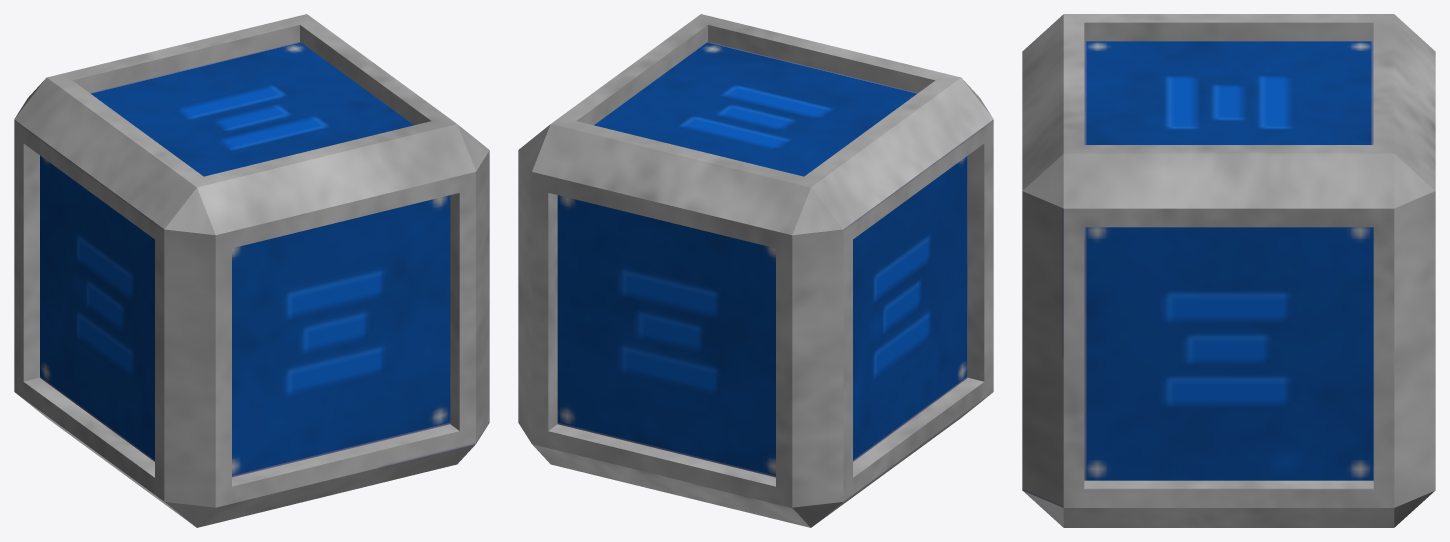
File: Crate.fbx
3 renders of one model, left to right at view 1: azimuth 30°, elevation 25°; view 2: azimuth 150°, elevation 25°; view 3: azimuth 270°, elevation 25°, orthographic. The views are drawn at different scales.
Visible parts, largest first — view 1: Cube; view 2: Cube; view 3: Cube.
Part boxes in pixels (box(x1,y1,x2,y2)): Cube: box(14, 14, 489, 527); Cube: box(518, 14, 993, 527); Cube: box(1022, 14, 1435, 527).
Size of the model in its own units: 2 by 2 by 2.
